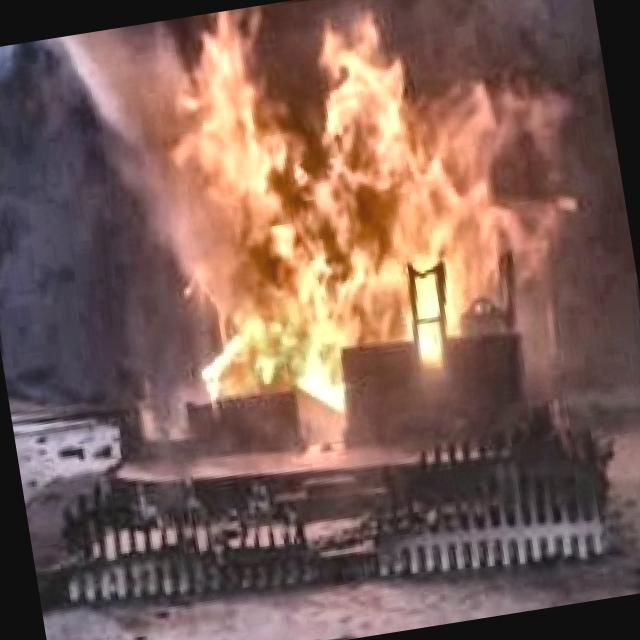fire: (90, 0, 605, 459)
